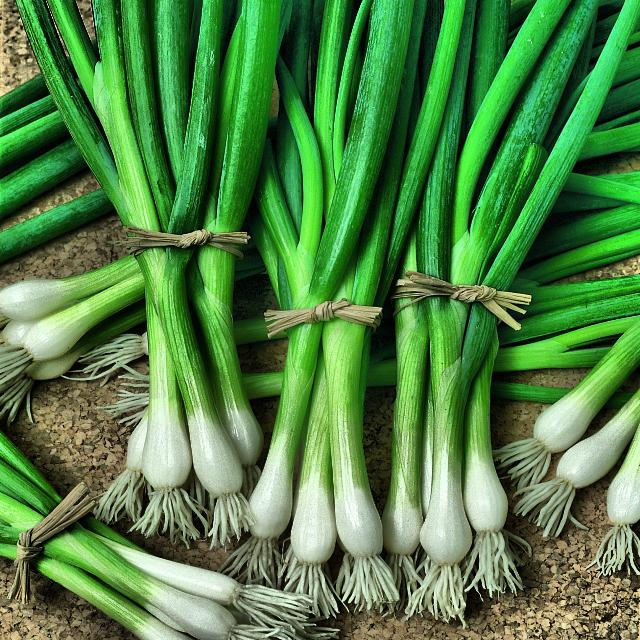spring onions: (20, 7, 633, 625)
